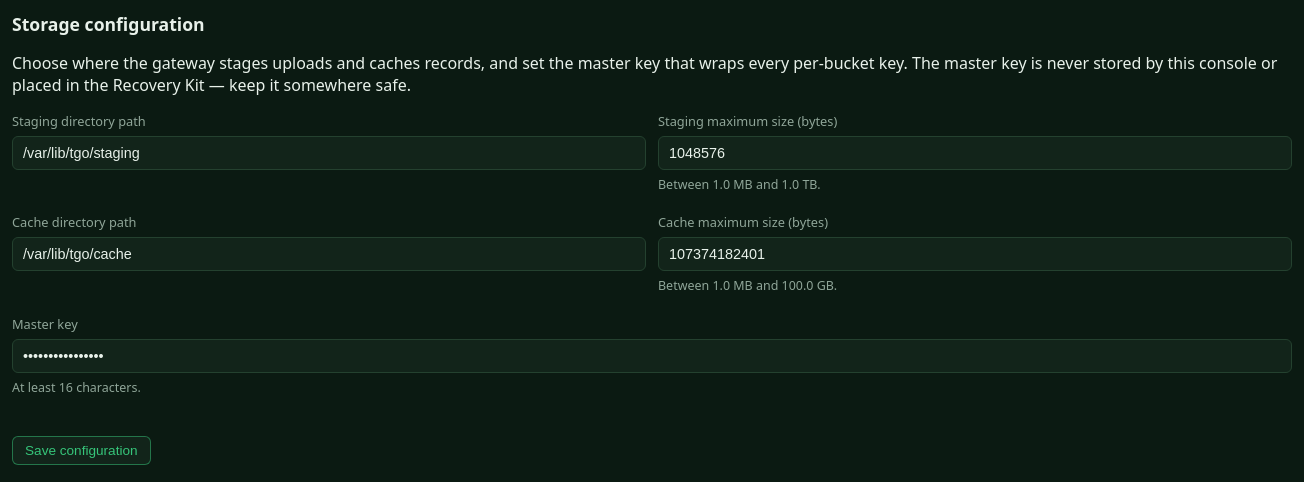
ConfigStep › blocks an out-of-range size, naming the field and range, without POST or advance (Req 12.6)
The image size is (1304, 482).
Step 1. Click the button "Save configuration" → [81, 451], box [12,436,151,465]
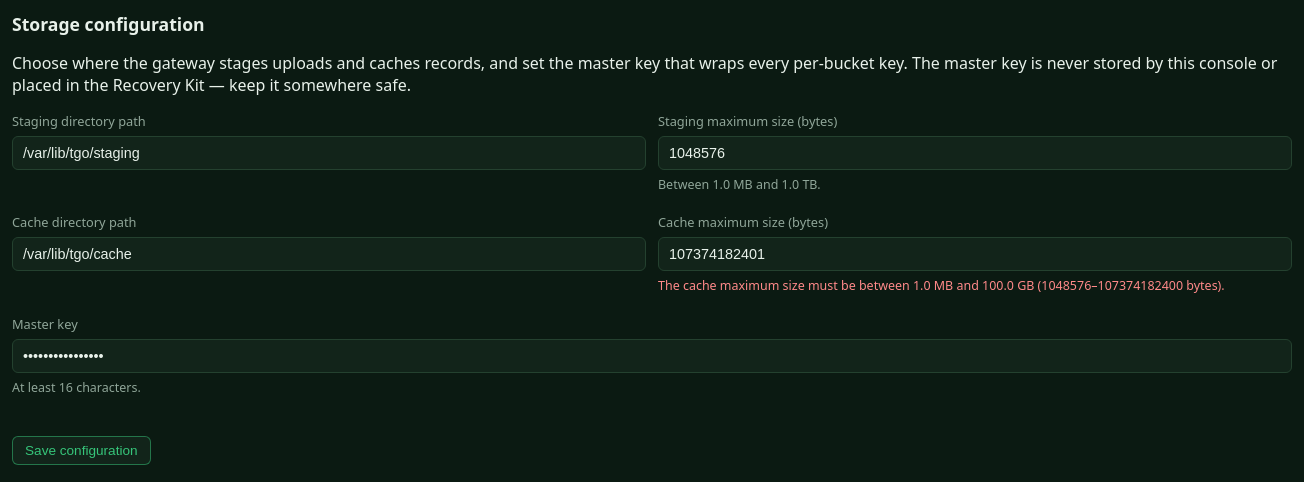
Expected: the message shows "between", [658,278,1225,294]
Now the message shows "cache maximum size", box [658,278,1225,294]
